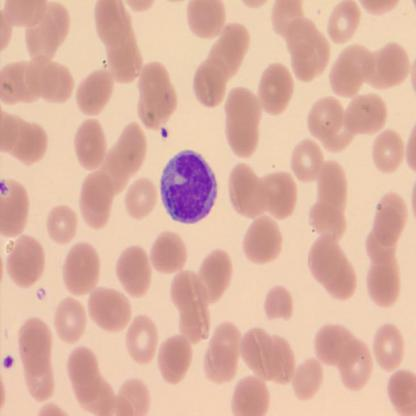Monocyte: (158, 148, 219, 224)
